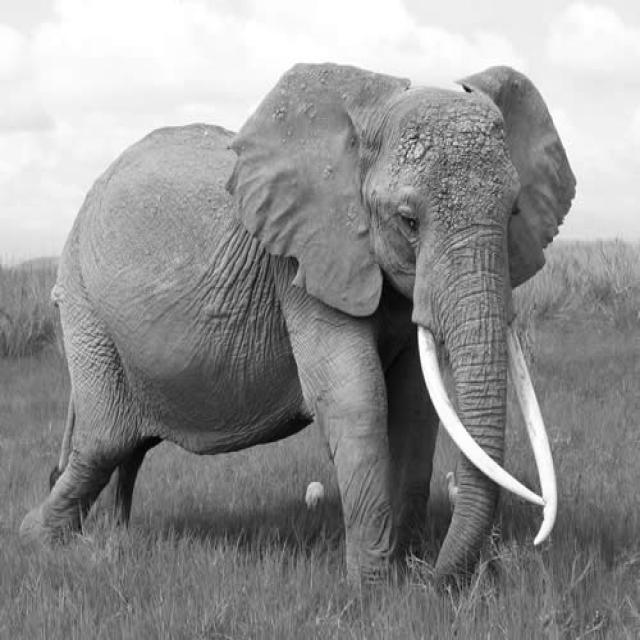Elephant: (18, 59, 576, 595)
